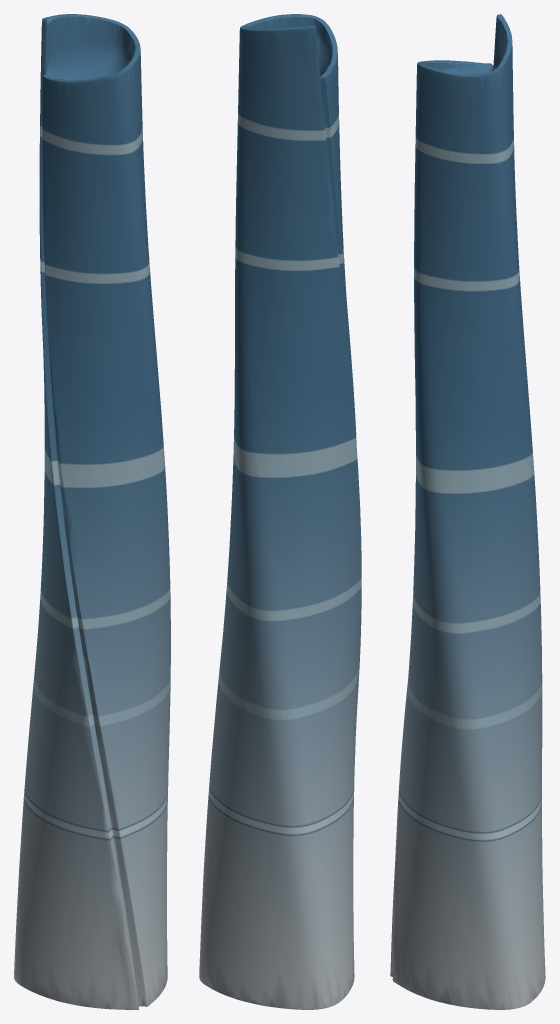
Rendered from zxds.glb.
3 renders of one model, left to right at view 1: azimuth 30°, elevation 25°; view 2: azimuth 150°, elevation 25°; view 3: azimuth 270°, elevation 25°, orthographic. The views are drawn at different scales.
Parts seen in each view (by area): view 1: 01-shanghaizhongxindasha; view 2: 01-shanghaizhongxindasha; view 3: 01-shanghaizhongxindasha.
Boxes of the visible parts, x1,y1,x2,y2 form: 01-shanghaizhongxindasha: (14,14,170,1009); 01-shanghaizhongxindasha: (199,14,361,1009); 01-shanghaizhongxindasha: (390,14,545,1009).
Size of the model in its own units: 2.36 by 16.03 by 2.39.
1 material, 1 textured.
